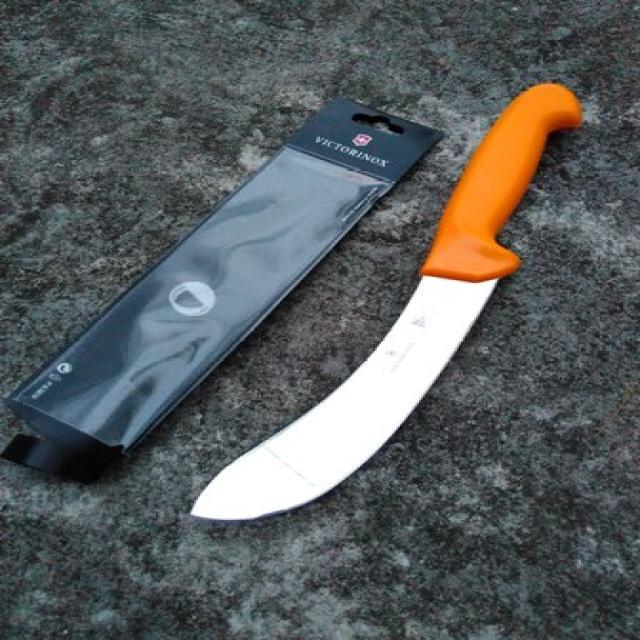Pisau: (174, 78, 593, 531)
